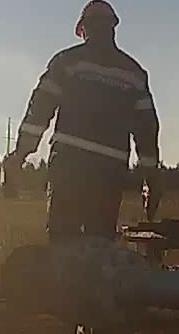gloves: (137, 172, 160, 224)
helmet: (71, 1, 120, 42)
vest: (40, 46, 150, 200)
